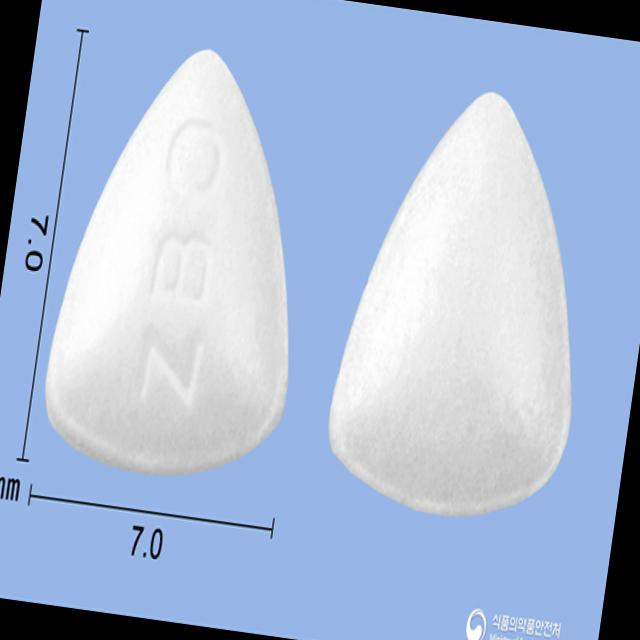Arava: (31, 31, 336, 504)
